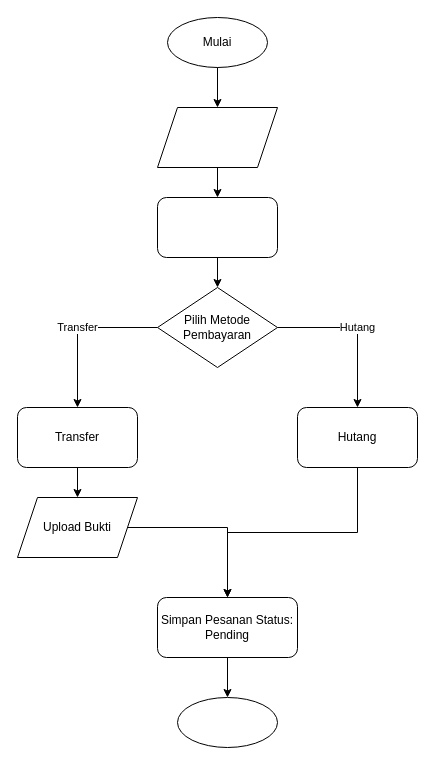
This 435x765 diagram has some shape labels left out. Each missing label, with the centre of its shape:
"Klik Checkout" goes at (x=217, y=227).
"Lihat Keranjang" goes at (x=217, y=137).
"Selesai" goes at (x=227, y=722).
